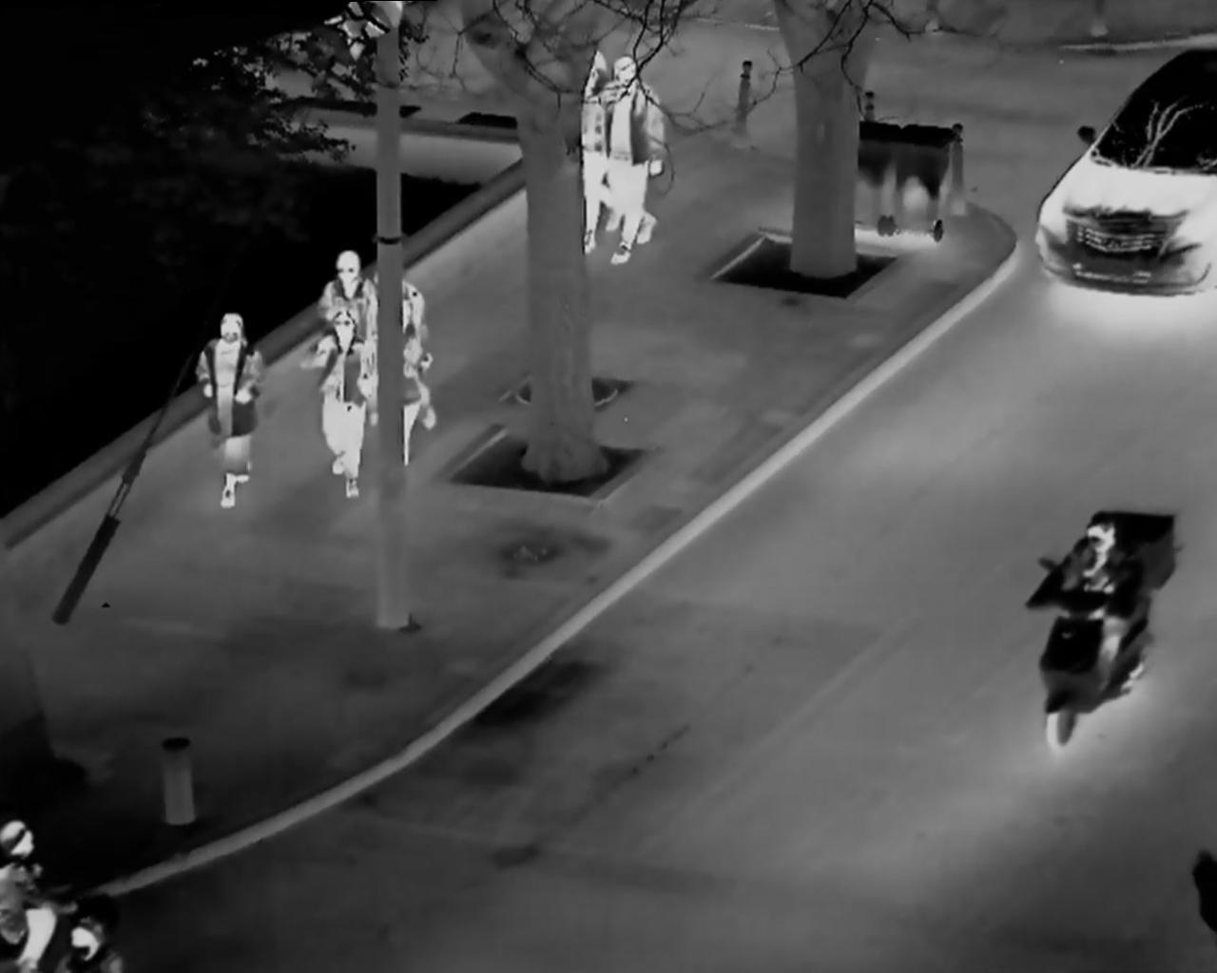person: (1042, 502, 1146, 716), (190, 294, 264, 511), (378, 272, 440, 463), (569, 51, 626, 257), (608, 55, 661, 264), (308, 313, 366, 499), (3, 818, 73, 964), (312, 233, 381, 327)
